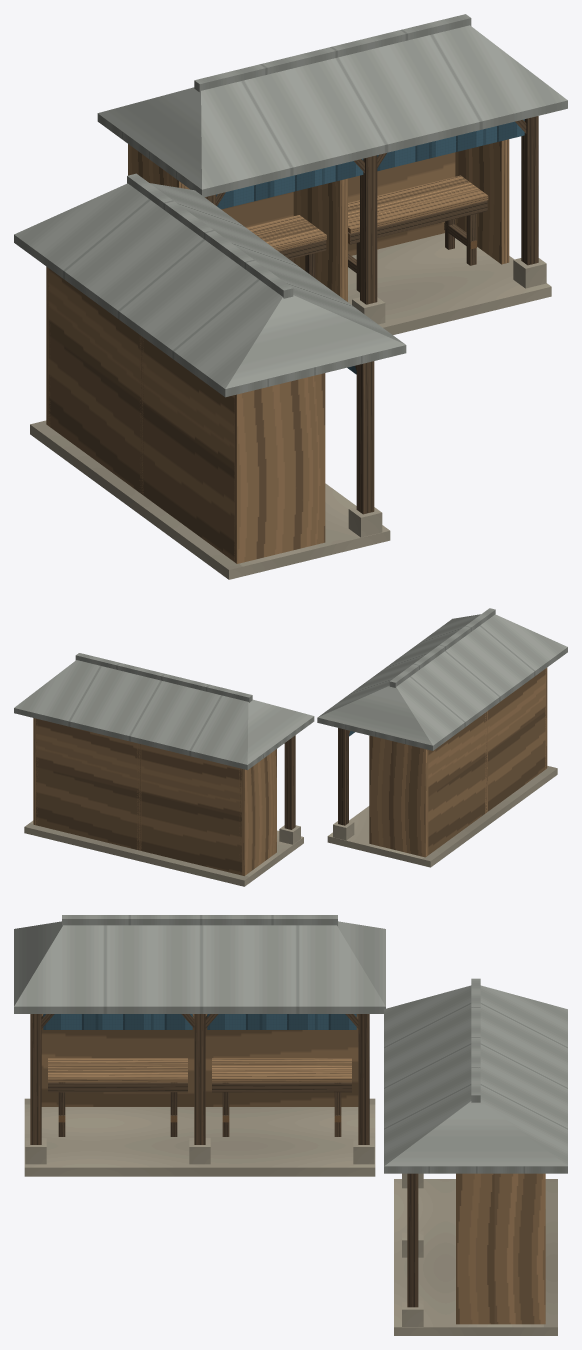
Rendered from lafia.glb.
3 renders of one model, top to bottom at view 1: azimuth 30°, elevation 25°; view 2: azimuth 150°, elevation 25°; view 3: azimuth 270°, elevation 25°, orthographic. The views are drawn at different scales.
Visible parts, largest first — view 1: lafia; view 2: lafia; view 3: lafia.
Boxes of the visible parts, x1,y1,x2,y2 form: lafia: (14,14,567,579); lafia: (14,608,567,886); lafia: (14,915,567,1335).
Size of the model in its own units: 5.07 by 2.24 by 5.
Materials: 1 (1 with a texture image).
